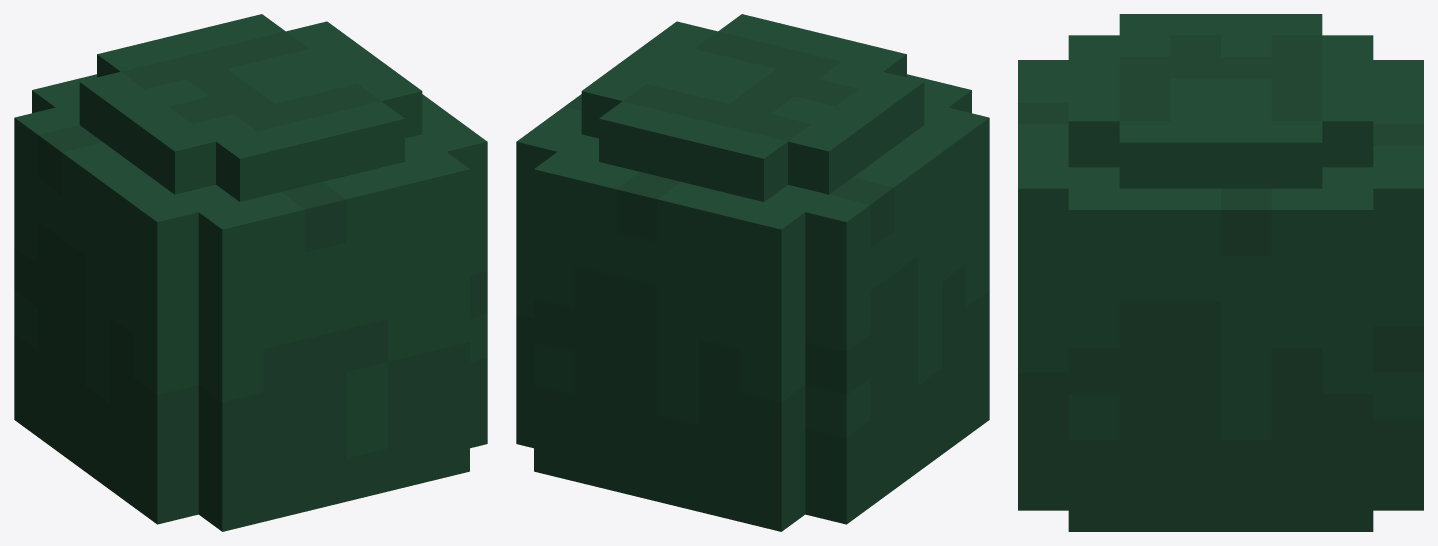
Rendered from arbusto.obj.
3 renders of one model, left to right at view 1: azimuth 30°, elevation 25°; view 2: azimuth 150°, elevation 25°; view 3: azimuth 270°, elevation 25°, orthographic. The views are drawn at different scales.
Size of the model in its own units: 0.8 by 0.8 by 0.8.
1 material, 1 textured.
